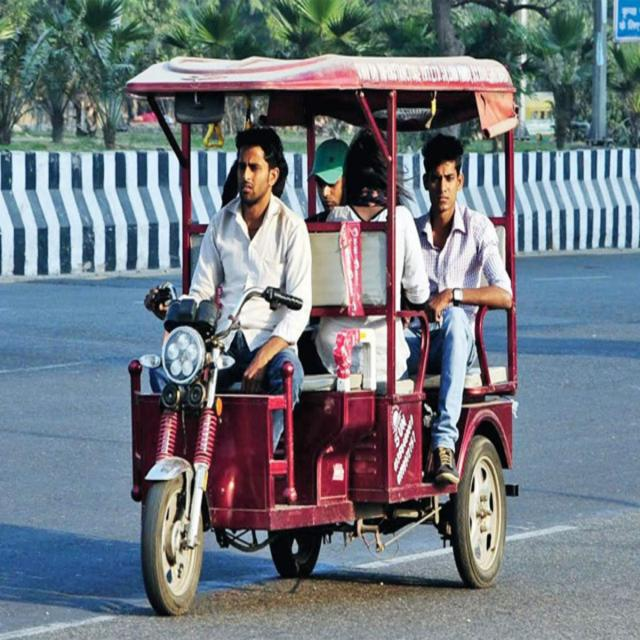autorikshaw: (128, 57, 510, 594)
